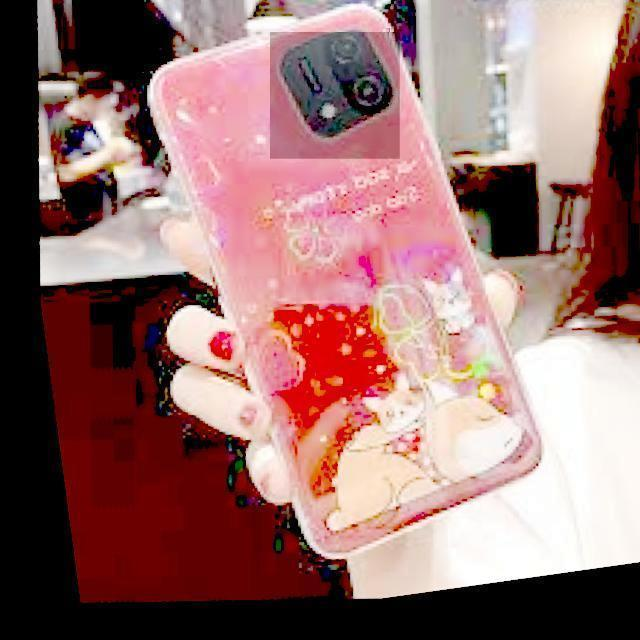lens_back: (345, 71, 387, 113), (327, 30, 370, 70), (296, 54, 324, 94)
phone: (149, 2, 544, 559)
